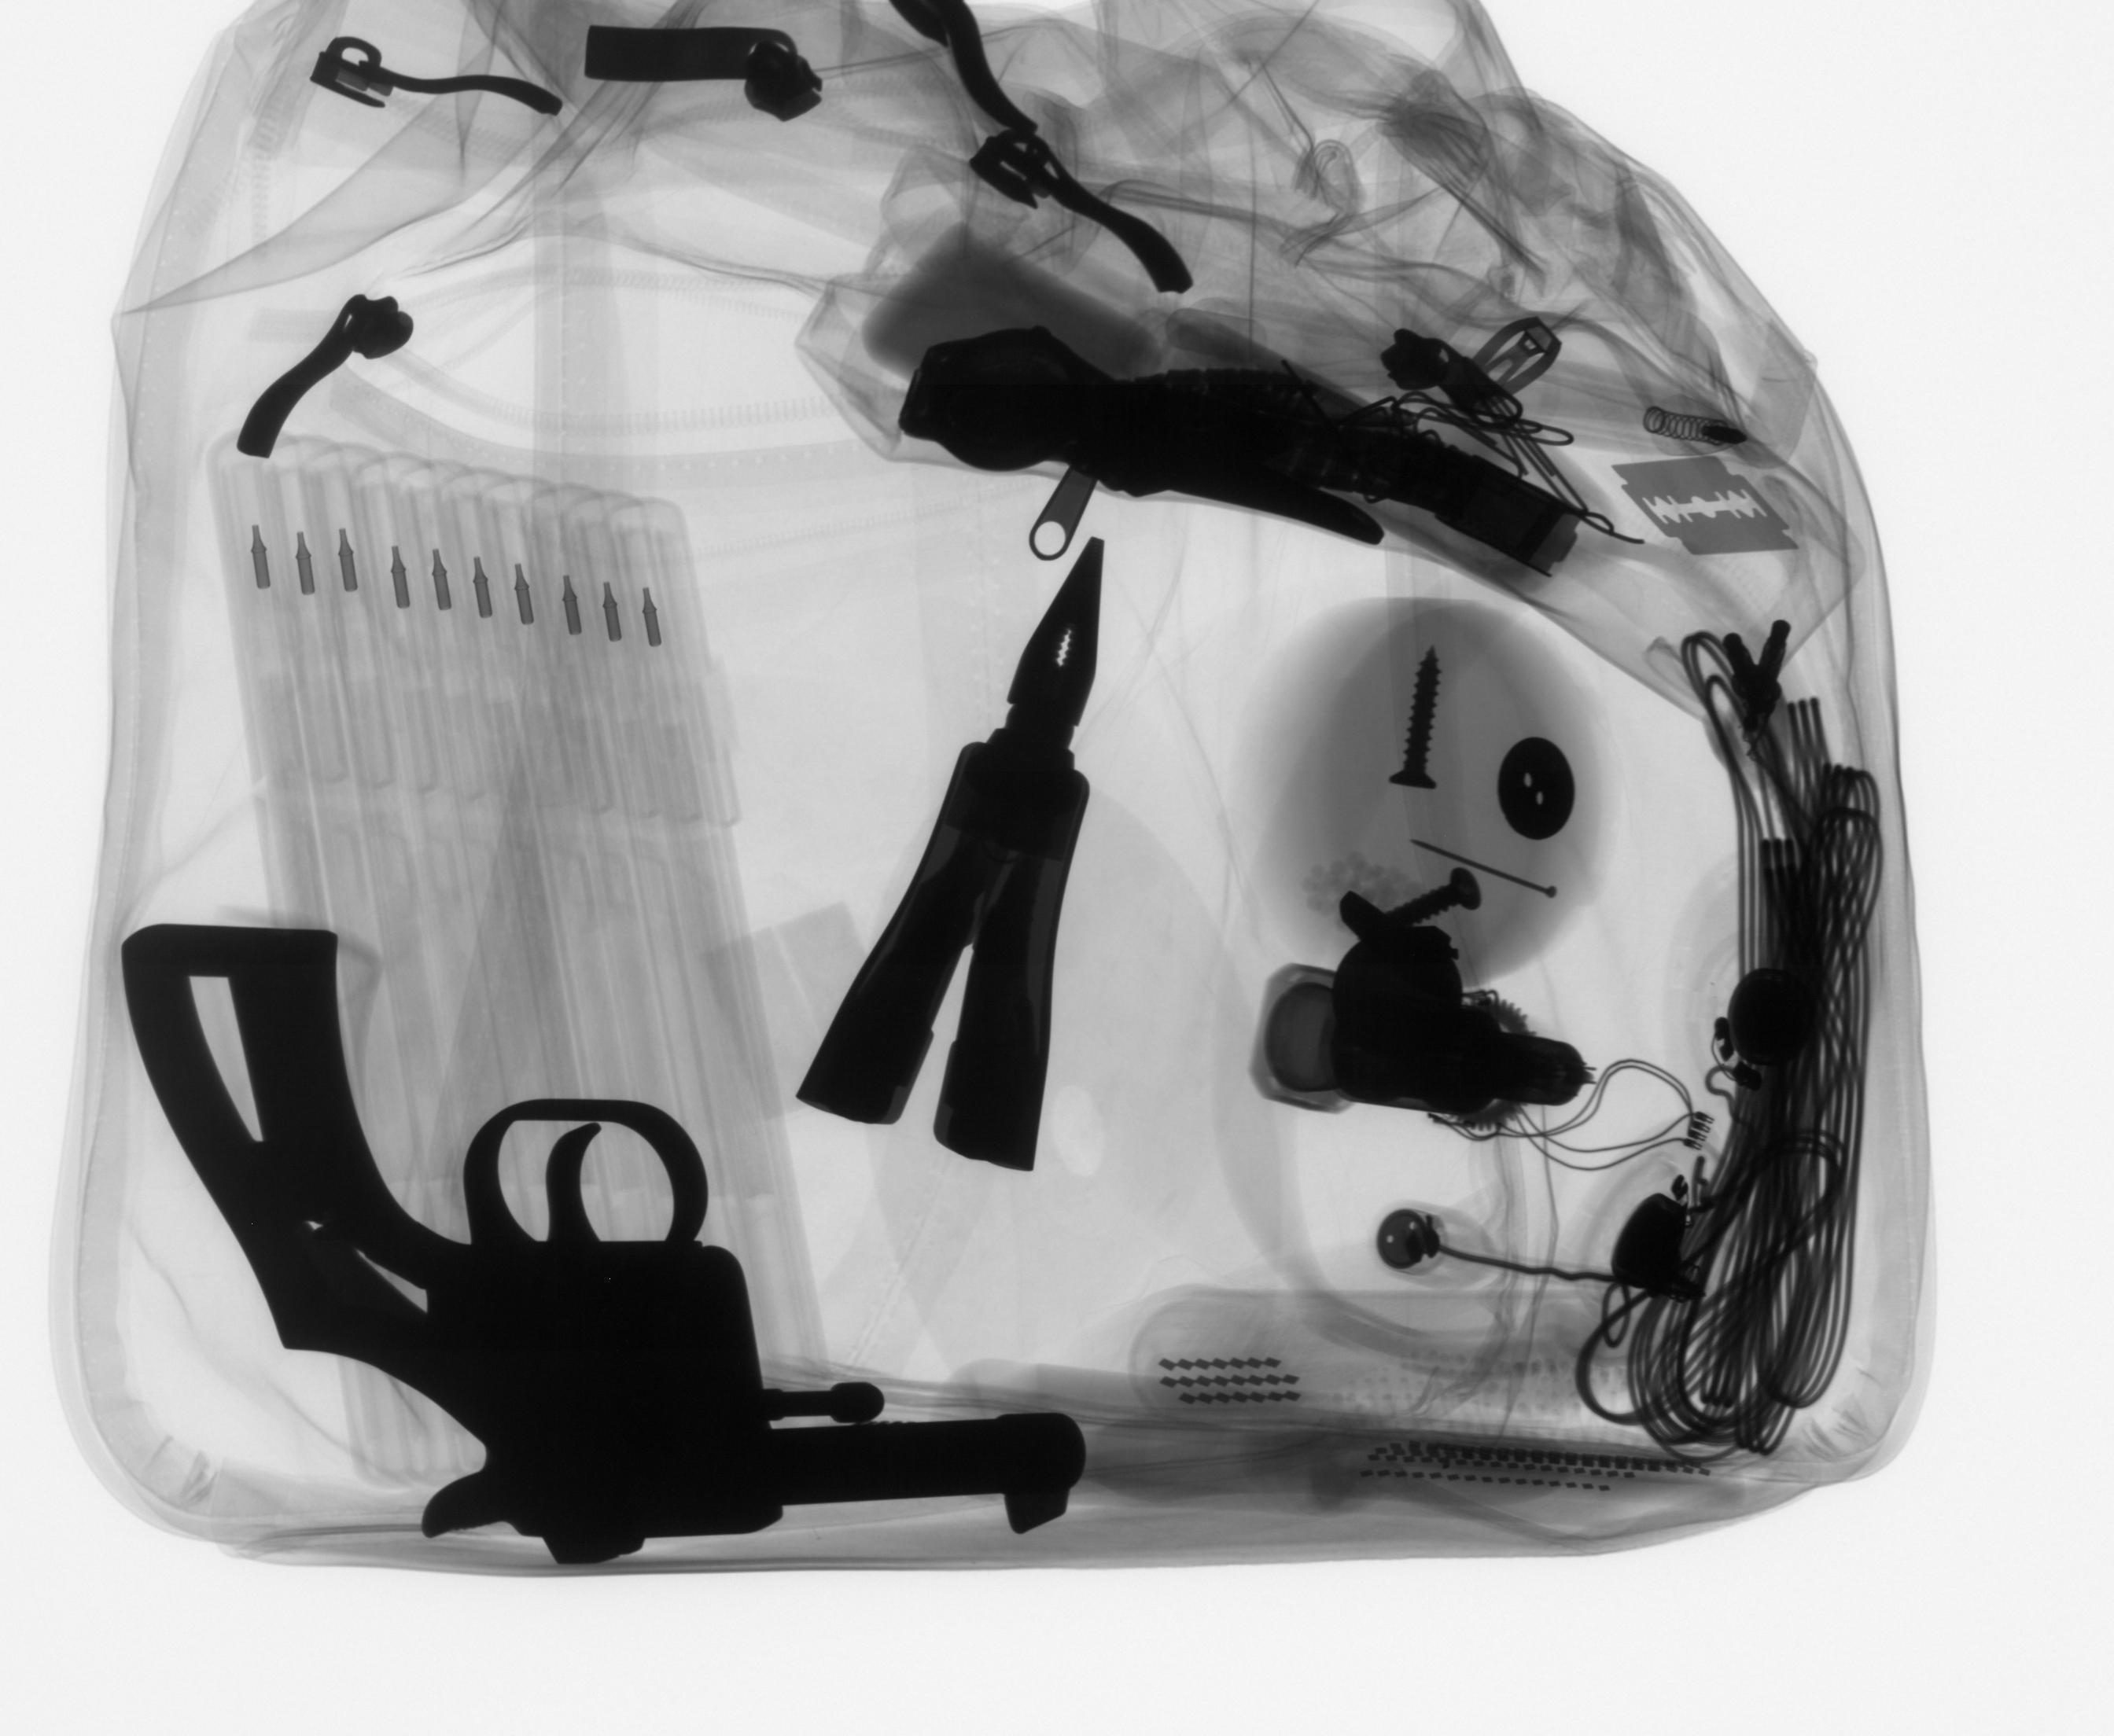Handgun: (114, 906, 1145, 1585)
RazorBlade: (1601, 446, 1833, 588)
